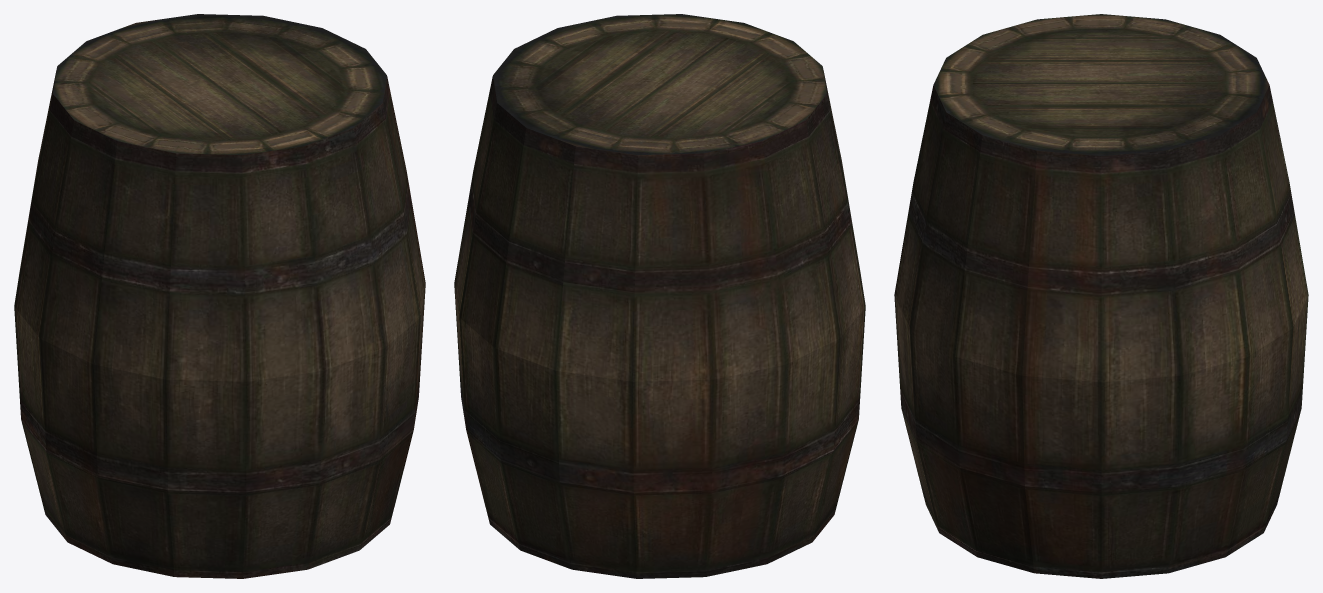
File: barril.fbx
3 views of the same model, side by side, from view 1: azimuth 30°, elevation 25°; view 2: azimuth 150°, elevation 25°; view 3: azimuth 270°, elevation 25° (orthographic).
Parts seen in each view (by area): view 1: barril; view 2: barril; view 3: barril.
Part boxes in pixels (left/top/right/bottom): barril: left=14, top=14, right=425, bottom=578; barril: left=454, top=14, right=865, bottom=578; barril: left=894, top=14, right=1308, bottom=578.
Size of the model in its own units: 230 by 258 by 230.
1 material, 1 textured.
